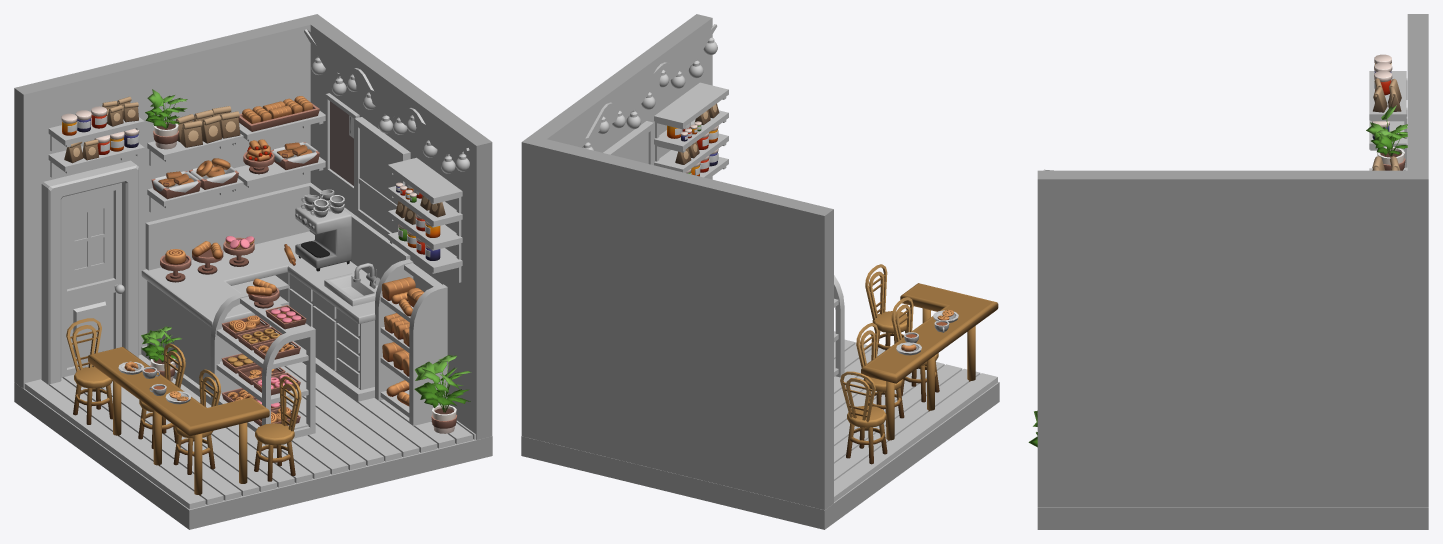
The model's file is cafe.fbx.
3 renders of one model, left to right at view 1: azimuth 30°, elevation 25°; view 2: azimuth 150°, elevation 25°; view 3: azimuth 270°, elevation 25°, orthographic. The views are drawn at different scales.
Visible parts, largest first — view 1: Isometric_cafe, Cube.003, Cube.002, Cube.062, Plane.016, Cube, Cylinder.067, Cylinder.020, Cylinder.070, Cylinder.066, Cylinder.018, Cylinder.069 (+3 smaller); view 2: Isometric_cafe, Cube.062, Plane.016, Cylinder.067, Cylinder.066, Cylinder.070, Cylinder.068, Cylinder.069; view 3: Isometric_cafe, Cylinder.018.
Part boxes in pixels (left/top/right/bottom): Isometric_cafe: left=14, top=14, right=492, bottom=529; Cube.003: left=61, top=182, right=124, bottom=377; Cube.002: left=41, top=160, right=138, bottom=384; Cube.062: left=88, top=347, right=269, bottom=436; Plane.016: left=304, top=29, right=469, bottom=154; Cube: left=295, top=206, right=351, bottom=271; Cylinder.067: left=66, top=318, right=112, bottom=424; Cylinder.020: left=414, top=355, right=471, bottom=433; Cylinder.070: left=254, top=376, right=301, bottom=481; Cylinder.066: left=113, top=380, right=247, bottom=495; Cylinder.018: left=145, top=89, right=187, bottom=149; Cylinder.069: left=173, top=369, right=221, bottom=474; Isometric_cafe: left=521, top=14, right=999, bottom=529; Cube.062: left=861, top=283, right=998, bottom=383; Plane.016: left=555, top=24, right=717, bottom=147; Cylinder.067: left=840, top=371, right=887, bottom=464; Cylinder.066: left=886, top=308, right=975, bottom=440; Cylinder.070: left=865, top=264, right=906, bottom=353; Cylinder.068: left=856, top=323, right=904, bottom=426; Cylinder.069: left=891, top=297, right=939, bottom=402; Isometric_cafe: left=1037, top=14, right=1428, bottom=529; Cylinder.018: left=1366, top=105, right=1407, bottom=170.
Bounding box in the file's own units: 200 × 198 × 205.
